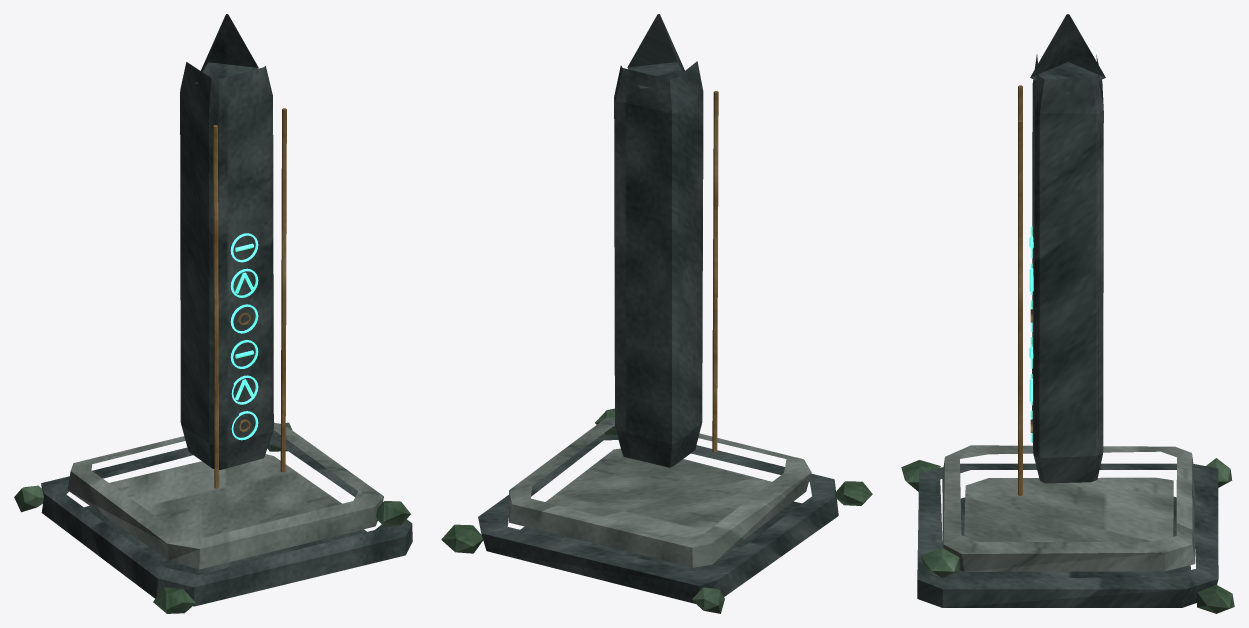
Rendered from 0499_obelisk_24.glb.
3 renders of one model, left to right at view 1: azimuth 30°, elevation 25°; view 2: azimuth 150°, elevation 25°; view 3: azimuth 270°, elevation 25°, orthographic. The views are drawn at different scales.
Visible parts, largest first — view 1: stone_dark, stone, brass, moss, glow; view 2: stone_dark, stone, moss, brass; view 3: stone_dark, stone, moss, brass, glow.
Part boxes in pixels (x1,y1,x2,y2): stone_dark: (41,14,412,606); stone: (67,422,383,569); brass: (213,108,286,488); moss: (14,422,410,613); glow: (230,233,258,440); stone_dark: (478,14,838,603); stone: (509,418,811,567); moss: (441,408,872,613); brass: (712,91,718,452); stone_dark: (917,14,1218,607); stone: (942,445,1194,571); moss: (901,458,1234,613); brass: (1018,85,1032,495); glow: (1029,226,1033,442).
Bounding box in the file's own units: 2.11 × 3.73 × 2.1.
Materials: 5 (5 with a texture image).
